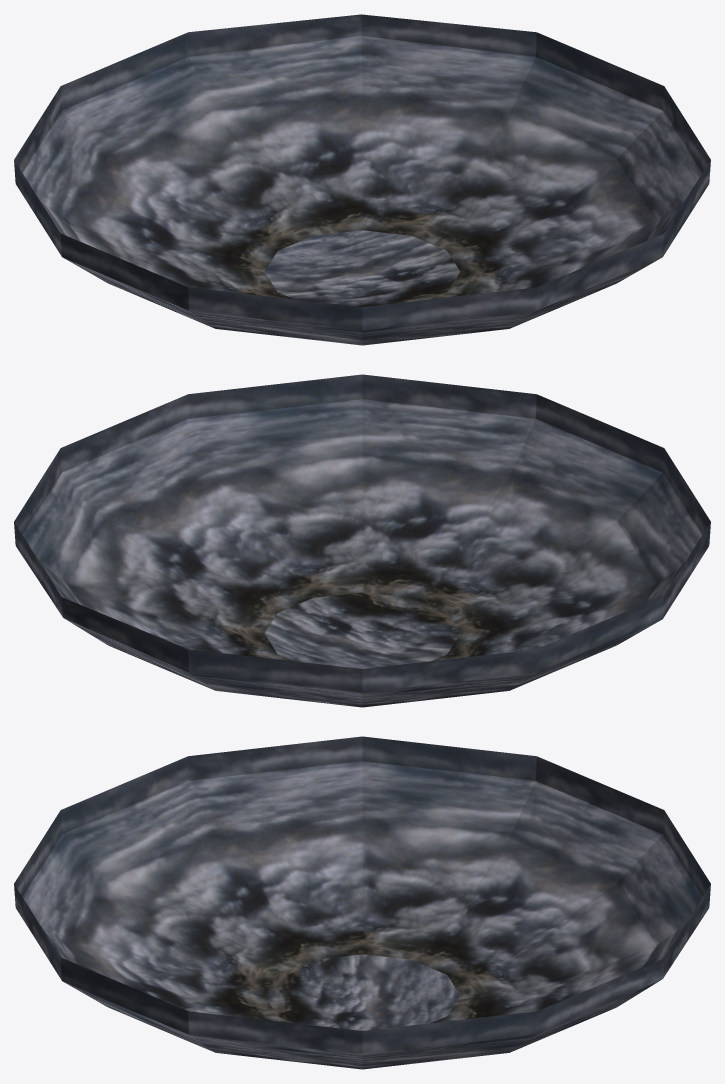
The model's file is Skybox.obj.
3 views of the same model, one above another, from view 1: azimuth 30°, elevation 25°; view 2: azimuth 150°, elevation 25°; view 3: azimuth 270°, elevation 25° (orthographic).
Visible parts, largest first — view 1: Object_2; view 2: Object_2; view 3: Object_2.
Part boxes in pixels (left/top/right/bottom): Object_2: left=14, top=14, right=710, bottom=345; Object_2: left=14, top=374, right=710, bottom=707; Object_2: left=14, top=736, right=710, bottom=1069.
Size of the model in its own units: 411959 by 78011 by 411959.
